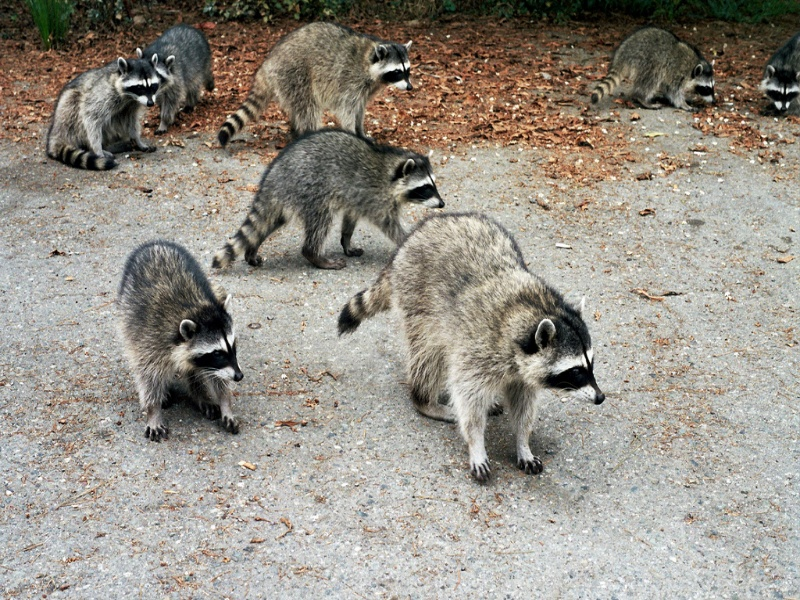raccoon: (334, 209, 607, 487), (212, 128, 450, 270), (112, 239, 250, 444), (218, 21, 428, 151), (45, 52, 163, 169), (588, 23, 721, 118), (135, 23, 217, 132), (755, 31, 800, 115)
